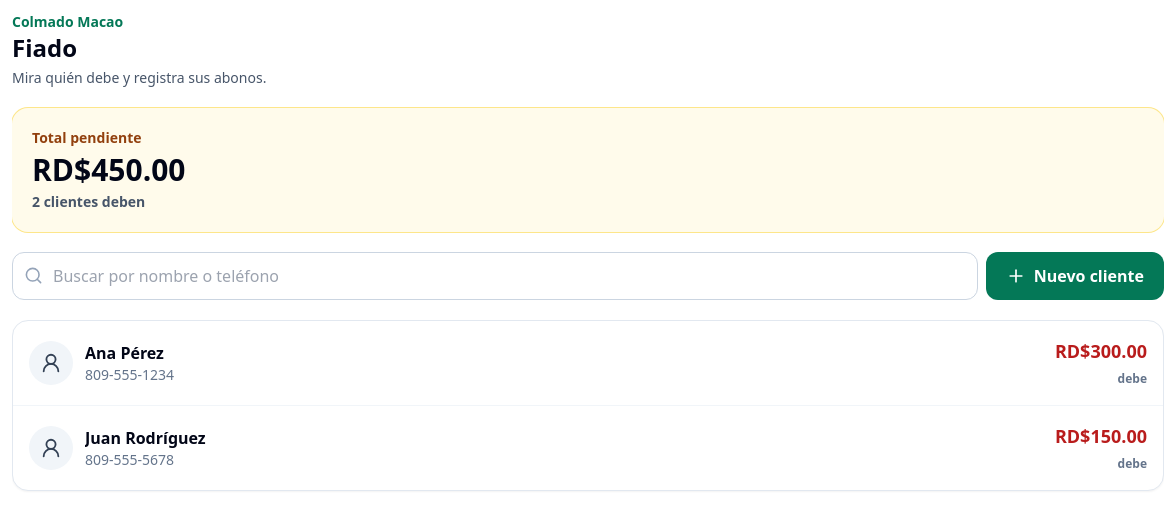
Test: CreditPanel › filters debtors by name or phone
Expected: the text "Ana Pérez" is shown, [85, 342, 164, 364]
Type "5678" into the field named "Buscar cliente". click: (495, 276)
box: [12, 252, 978, 300]
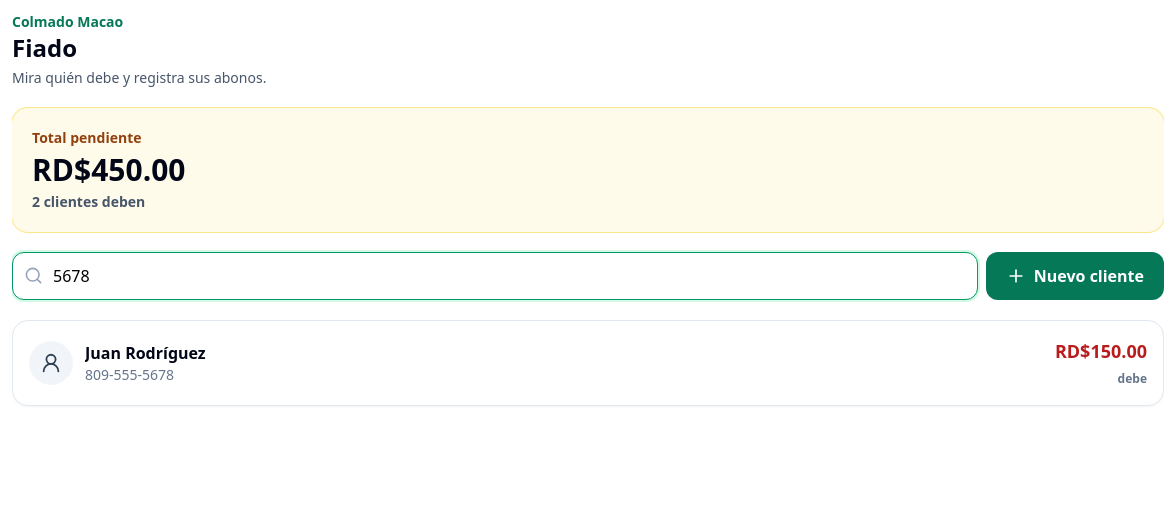
Expected: the text "Juan Rodríguez" is shown, [85, 342, 206, 364]
Expected: the button "Ana Pérez" is gone
